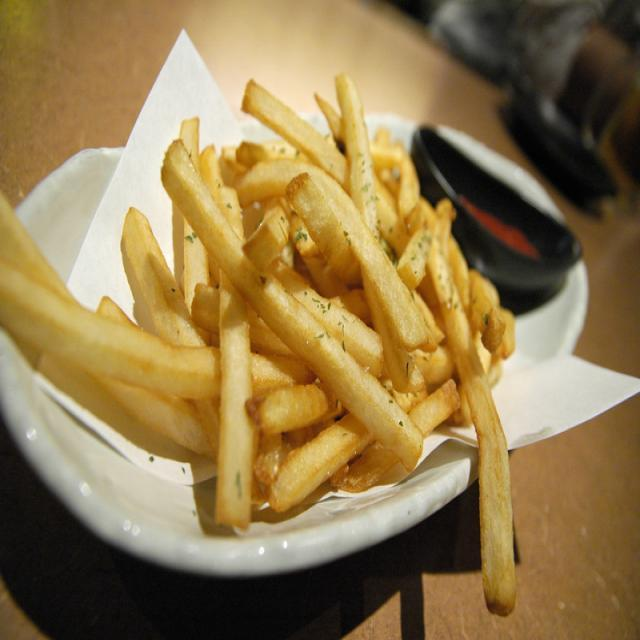French Fries: (0, 59, 528, 550)
